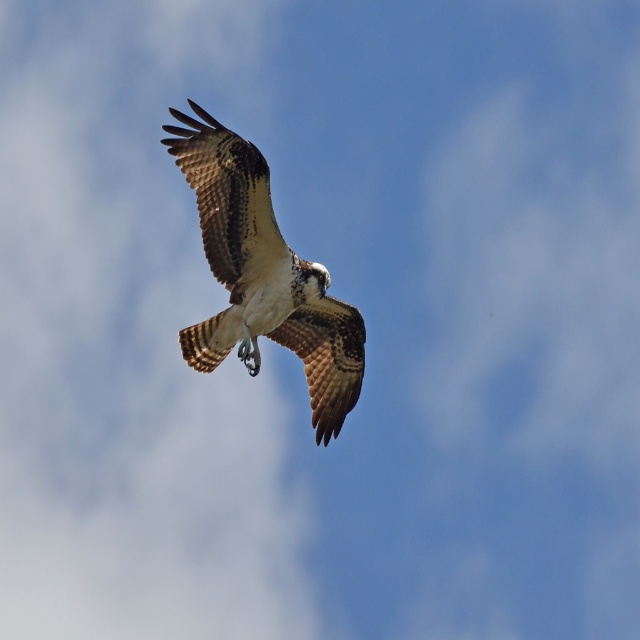Eagle: (161, 90, 363, 440)
